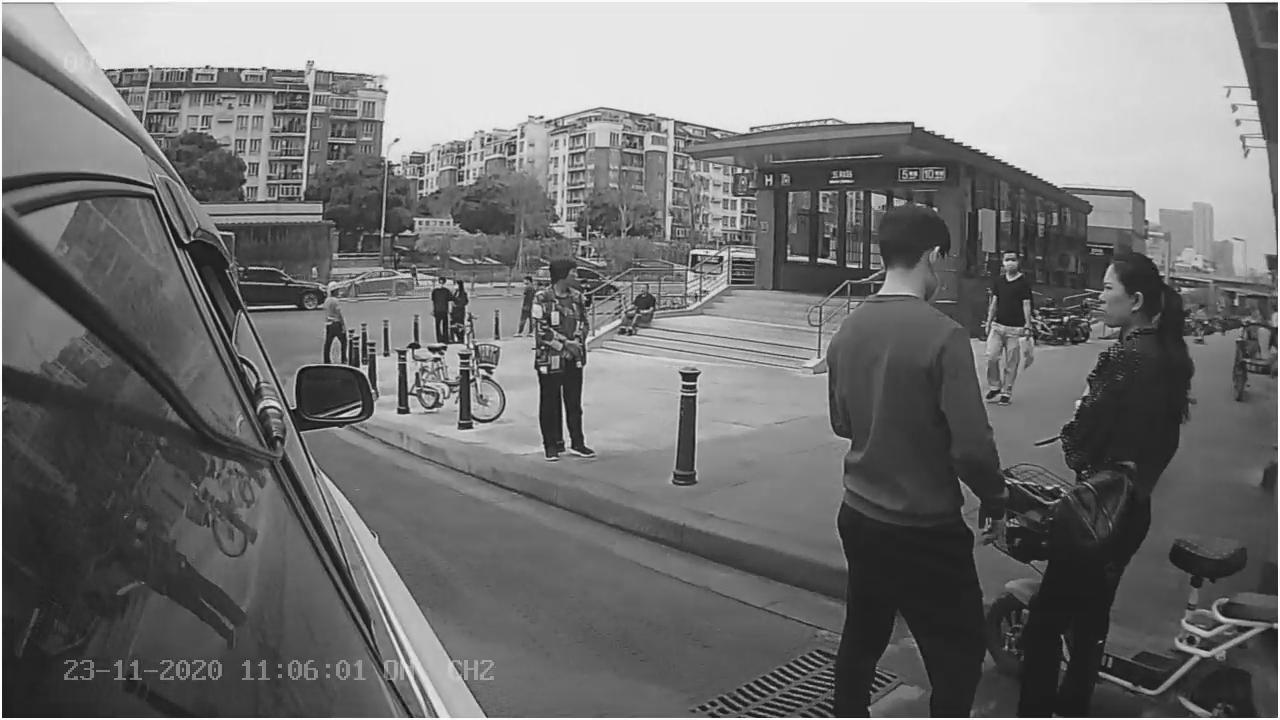person: (523, 257, 596, 466)
